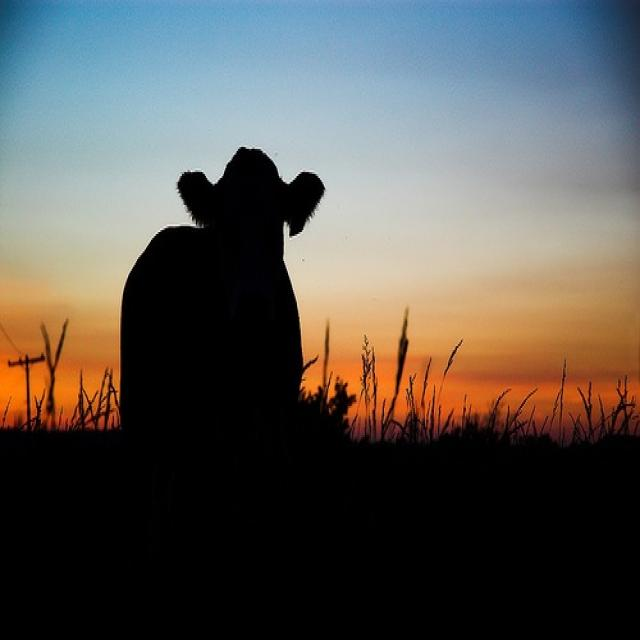cow: (118, 143, 326, 429)
